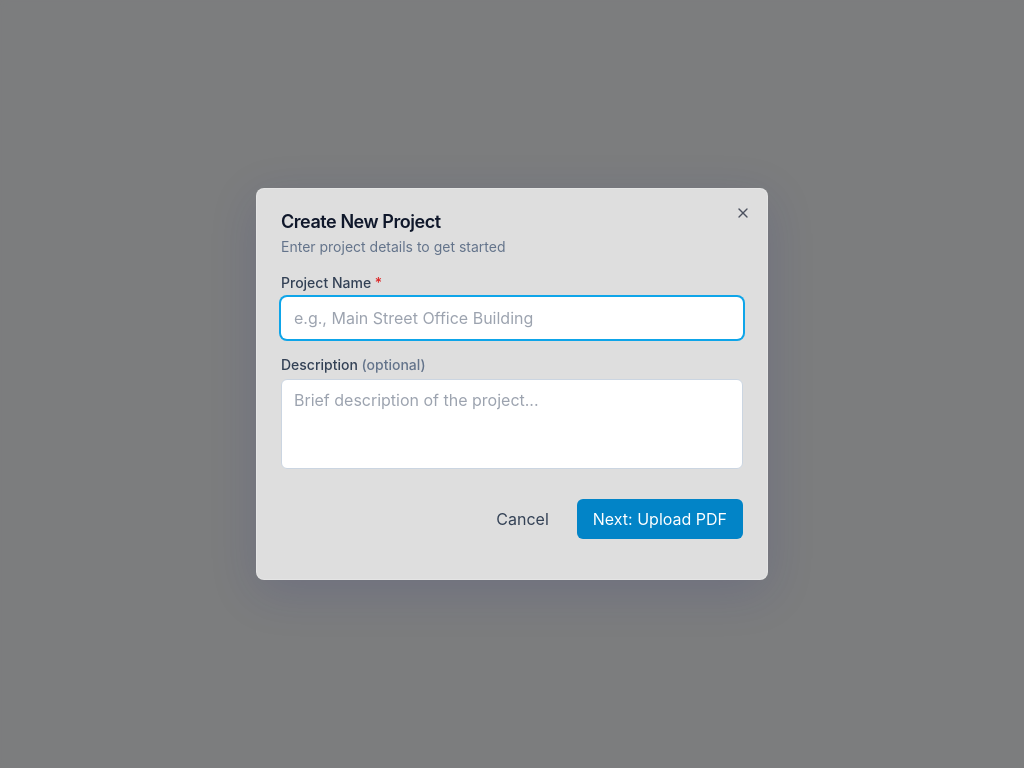
Scenario: CreateProjectDialog › Step 2: PDF Upload › should allow going back to details step
This screenshot has width=1024, height=768.
Type "Test Project" into the field labelled "Project Name *" at point(512, 318), box [281,297,743,339]
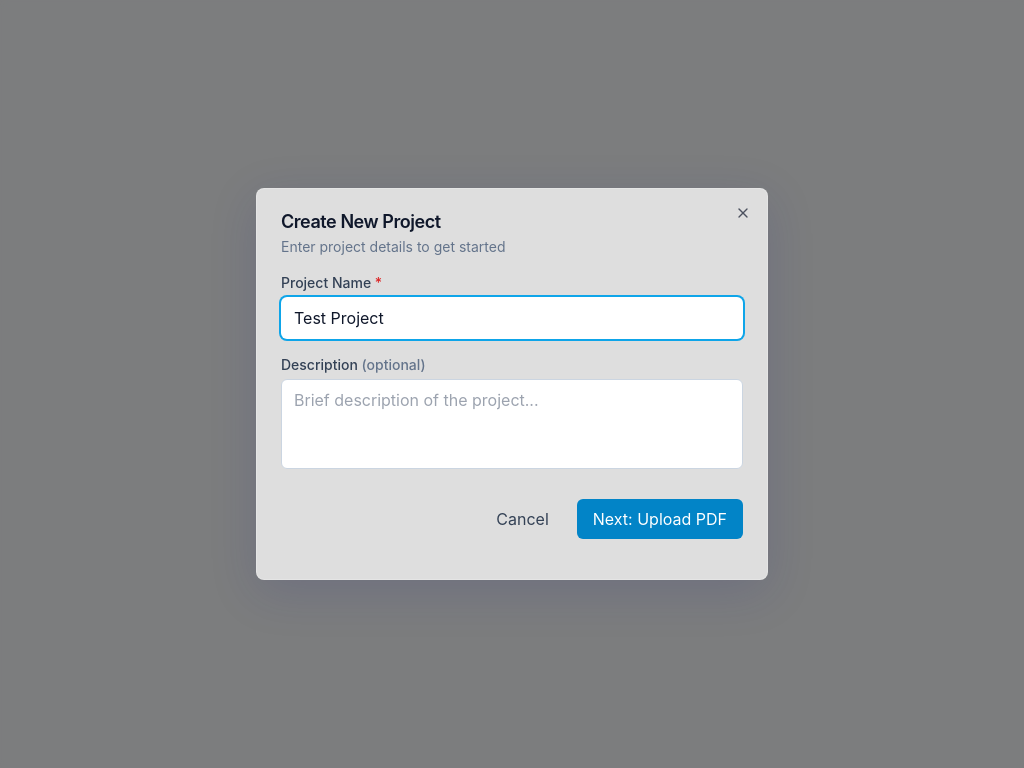
Click the button "Next: Upload PDF" at point(660, 519), box [577,499,743,539]
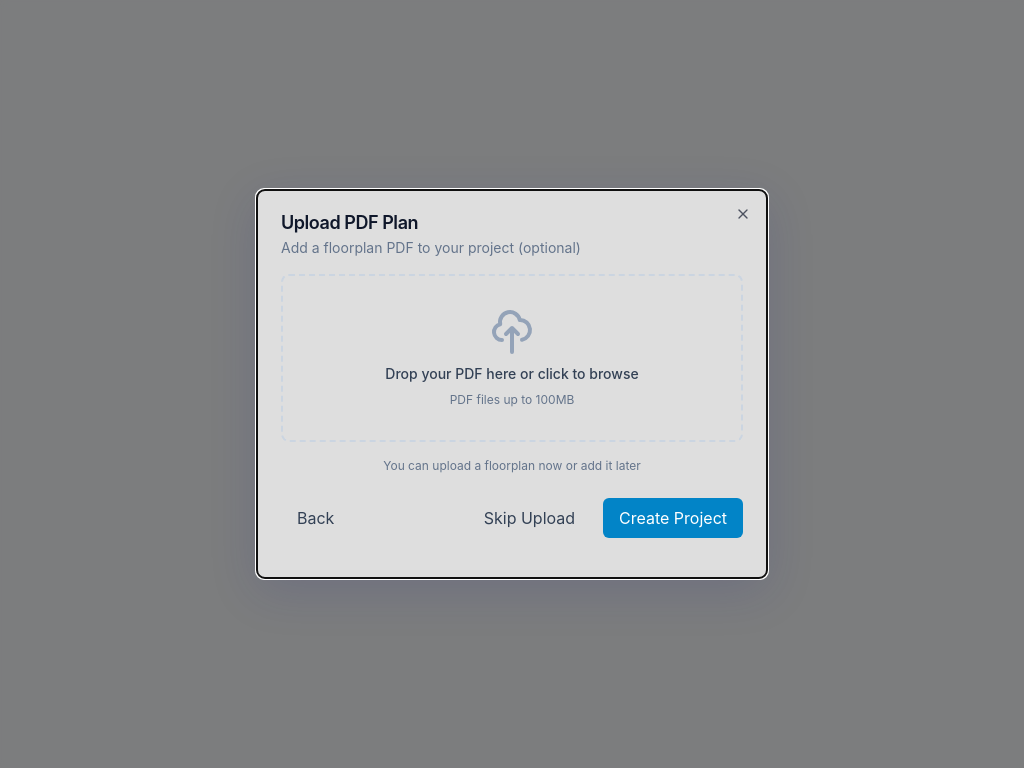
Check: the heading "Upload PDF Plan" is shown, box [281,212,418,233]
Click the button "Back" at point(316, 518), box [281,498,350,538]
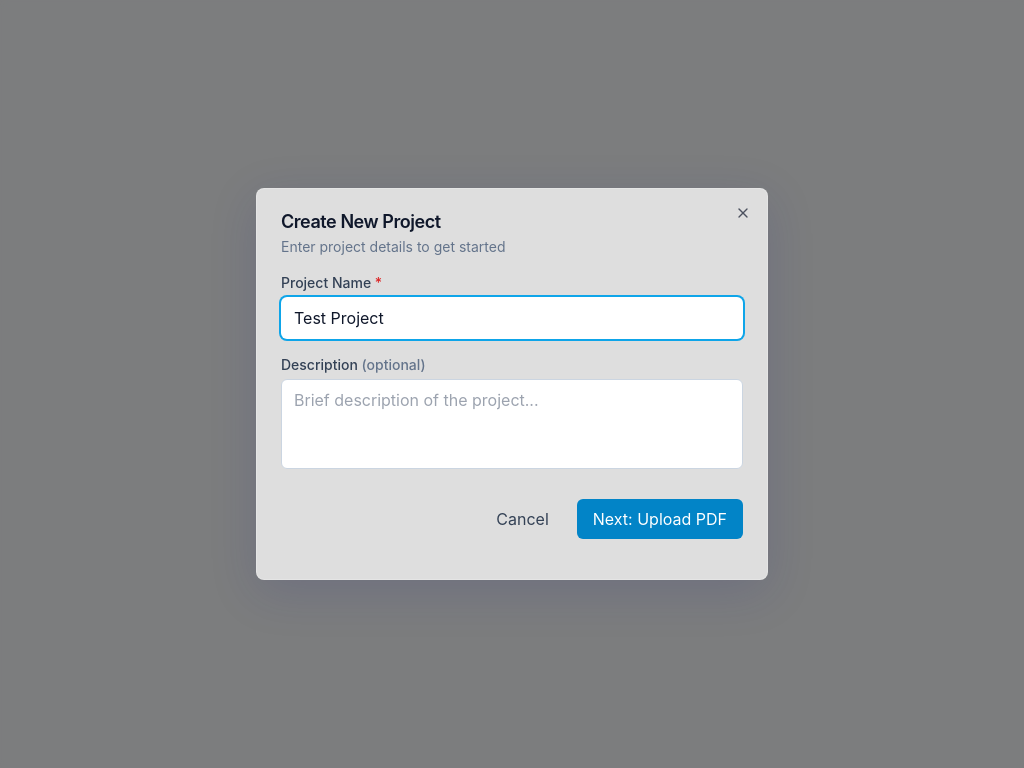
Check: the heading "Create New Project" is shown, box [281,211,441,232]
Check: the field labelled "Project Name *" is shown, box [281,297,743,339]
